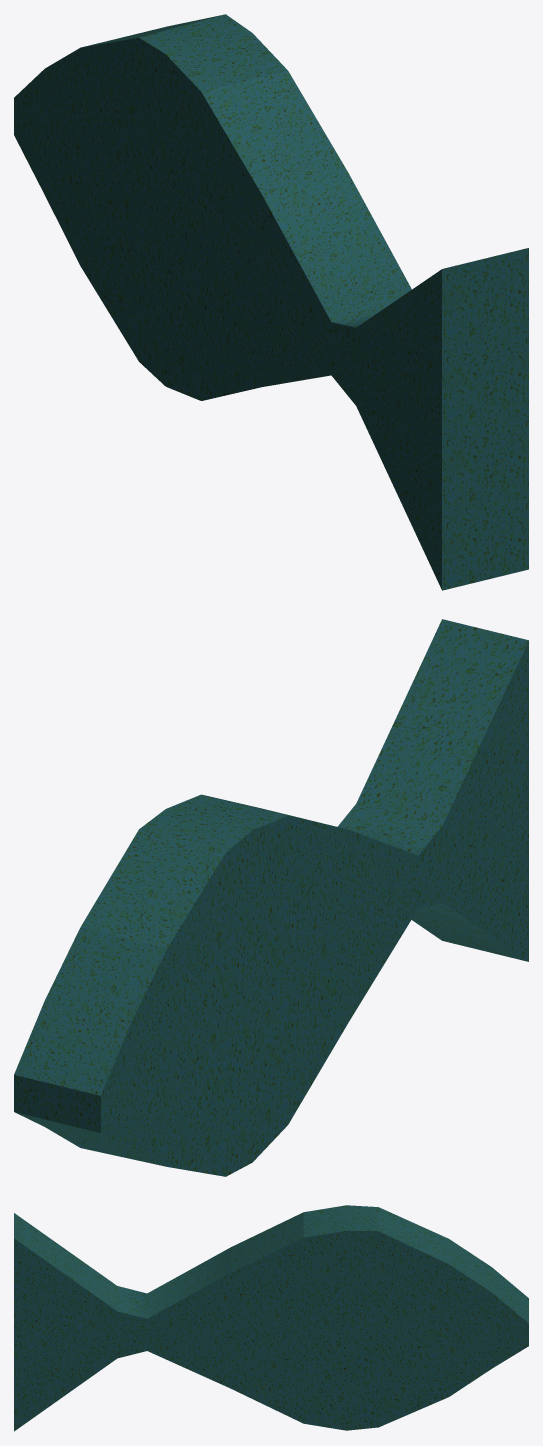
File: Sardine_002.fbx
3 renders of one model, top to bottom at view 1: azimuth 30°, elevation 25°; view 2: azimuth 150°, elevation 25°; view 3: azimuth 270°, elevation 25°, orthographic. The views are drawn at different scales.
Parts seen in each view (by area): view 1: Box001; view 2: Box001; view 3: Box001.
Boxes of the visible parts, left/top/right/bottom form: Box001: left=14, top=14, right=528, bottom=590; Box001: left=14, top=619, right=528, bottom=1176; Box001: left=14, top=1205, right=528, bottom=1431.
Bounding box in the file's own units: 10 × 36.77 × 85.4.
Materials: 1 (1 with a texture image).
